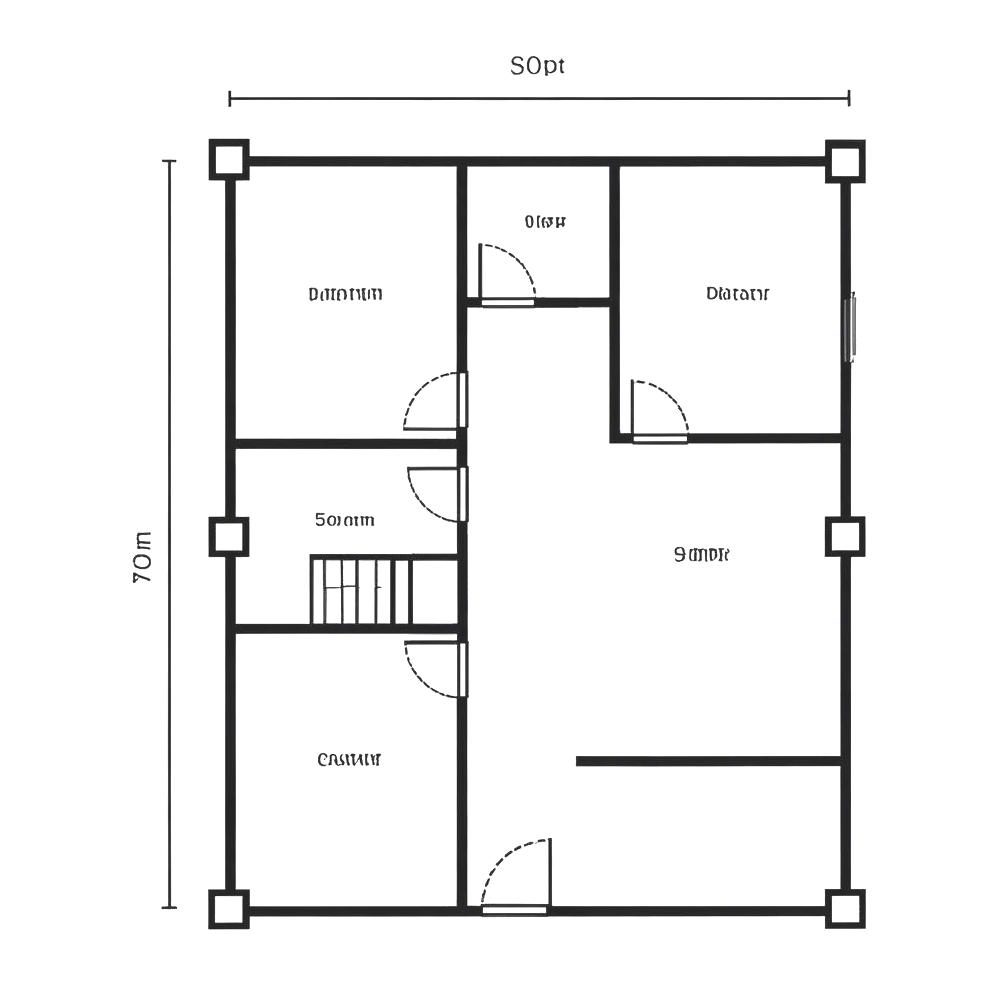Blueprint: (200, 128, 882, 942)
wall: (249, 155, 824, 166), (222, 180, 238, 518), (838, 184, 852, 516), (839, 557, 853, 888), (546, 904, 824, 919), (236, 436, 456, 454), (249, 904, 482, 920), (226, 557, 237, 889), (576, 754, 840, 767), (236, 622, 458, 636), (455, 166, 469, 374), (610, 167, 620, 443), (457, 698, 469, 905), (688, 432, 840, 444), (458, 520, 468, 642), (533, 295, 609, 310), (456, 427, 467, 468), (467, 294, 483, 309), (620, 432, 636, 444)
